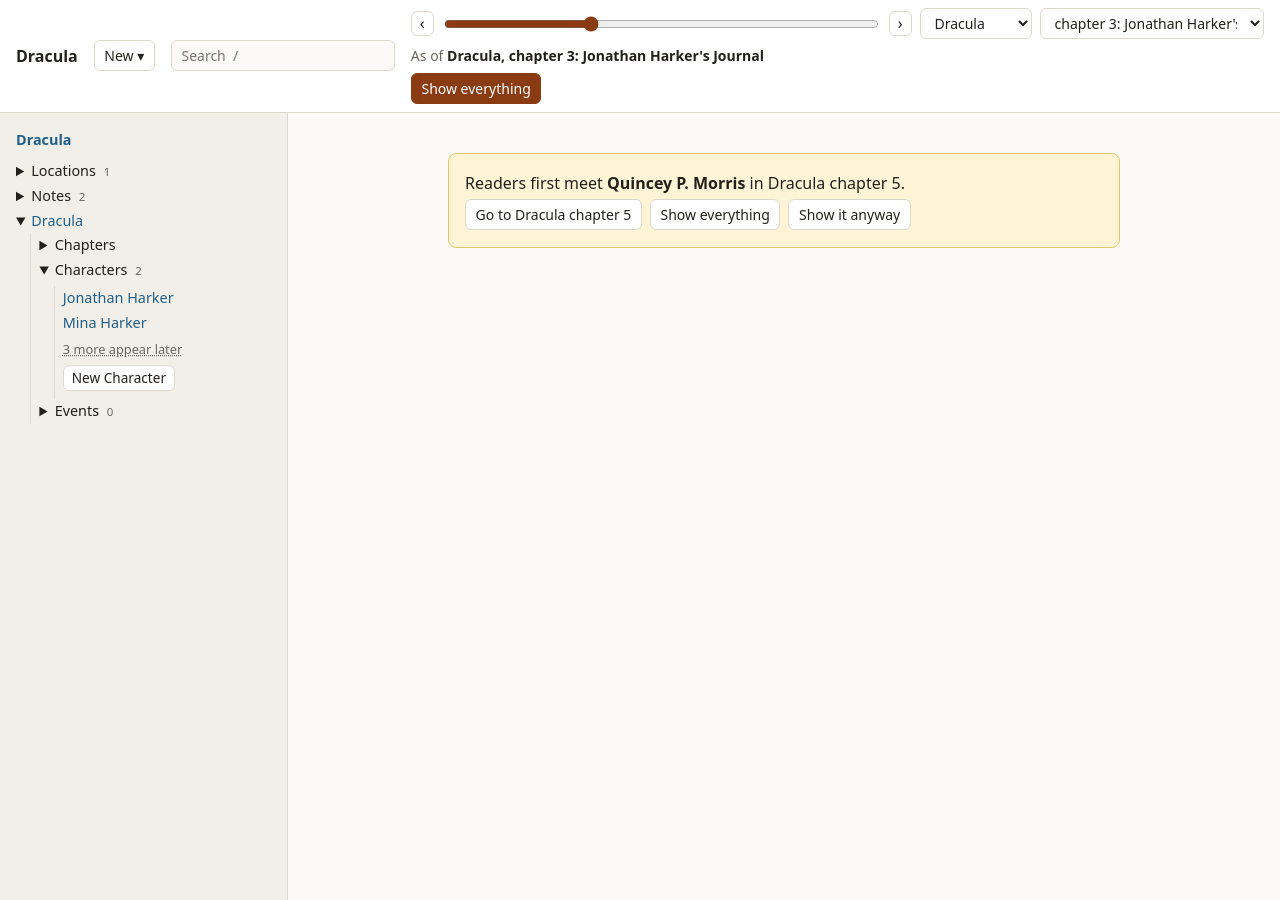
Test: Page titles name only what the reader has met › names a note in view, and not one met later
Expected: the text "Readers first meet Quincey P. Morris in Dracula chapter 5." is shown, [465,172,905,194]
What coordinates should you click on to do the following:
click the button "Show everything" below "Readers first meet"
I would click on:
 (715, 215)
Its box is [650,199,780,230].
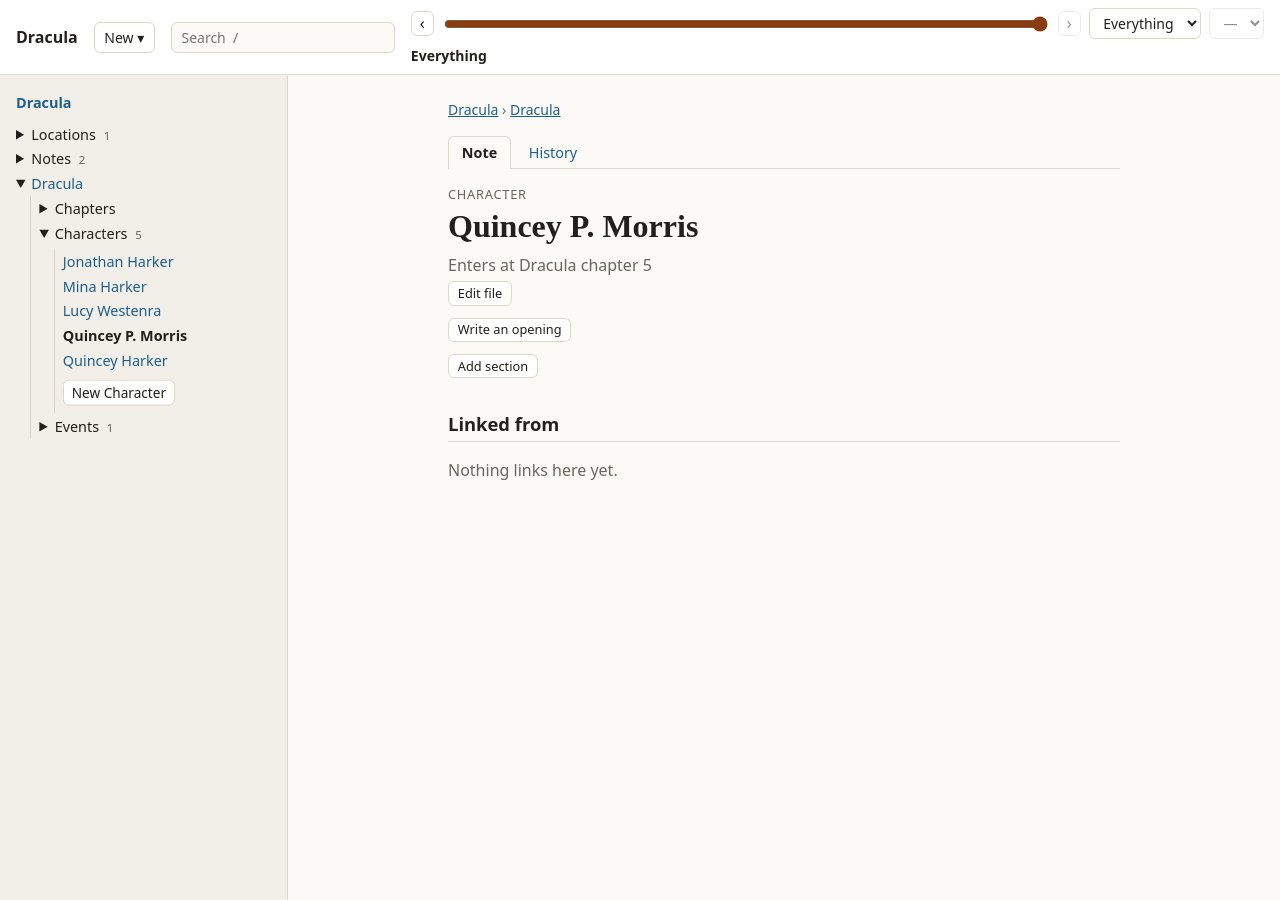
Expected: the heading "Quincey P. Morris" is shown, [448,208,698,244]
